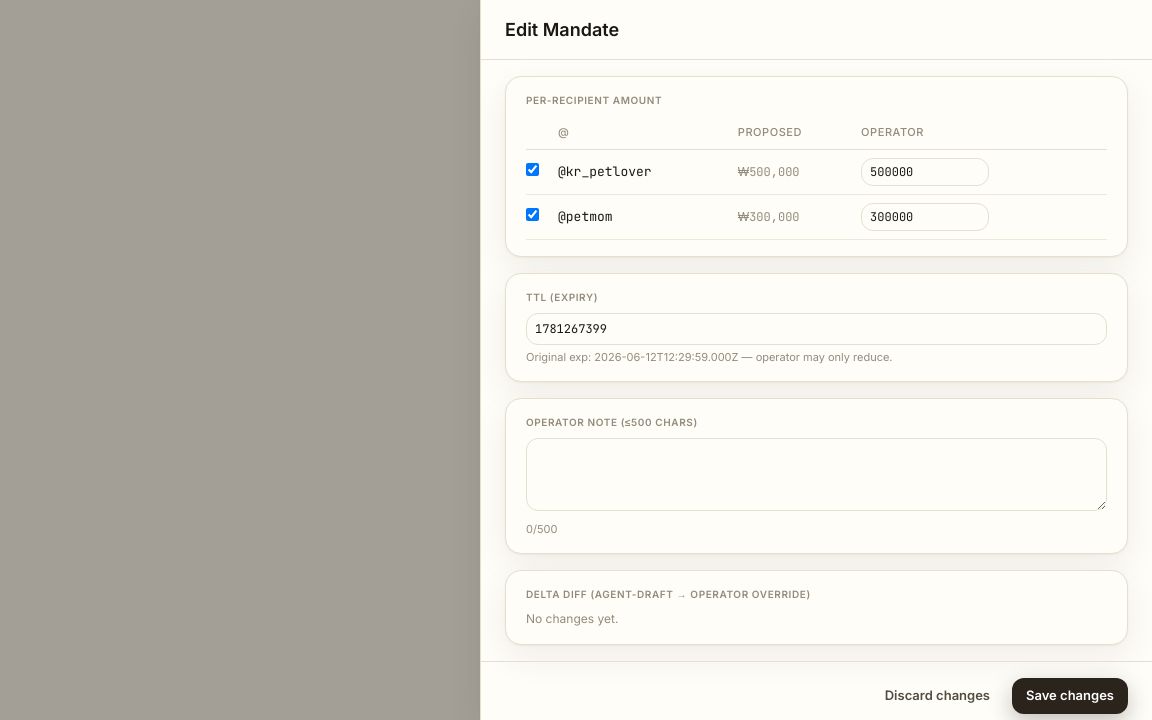
it: EditThenSignDrawer (D27/D33) › requires uplift_acknowledged when an edit exceeds 1.2× proposed
The image size is (1152, 720).
Step 1. Replace the text in the field named "amount for kr_petlover" with "700000" → coordinates (925, 172), box [861,158,989,186]
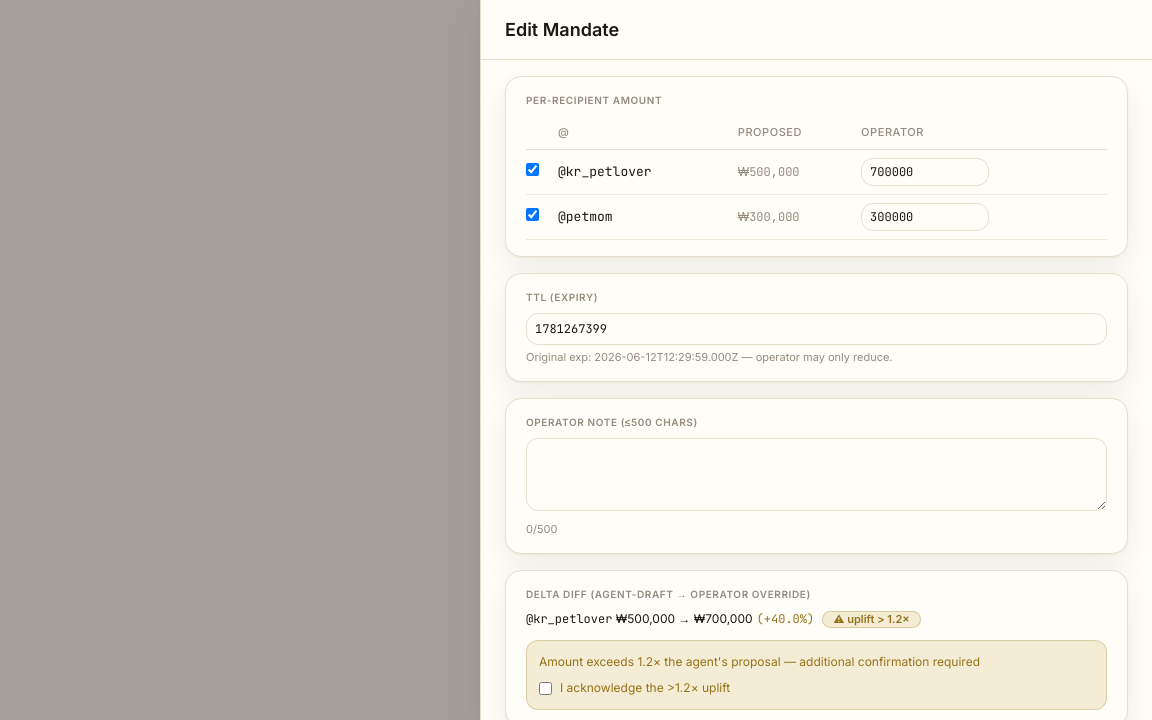
Note: Acknowledge the uplift.
Step 2. Click the checkbox labelled "I acknowledge the >1.2× uplift" → coordinates (546, 688), box [539,682,552,694]
(page scrolled)
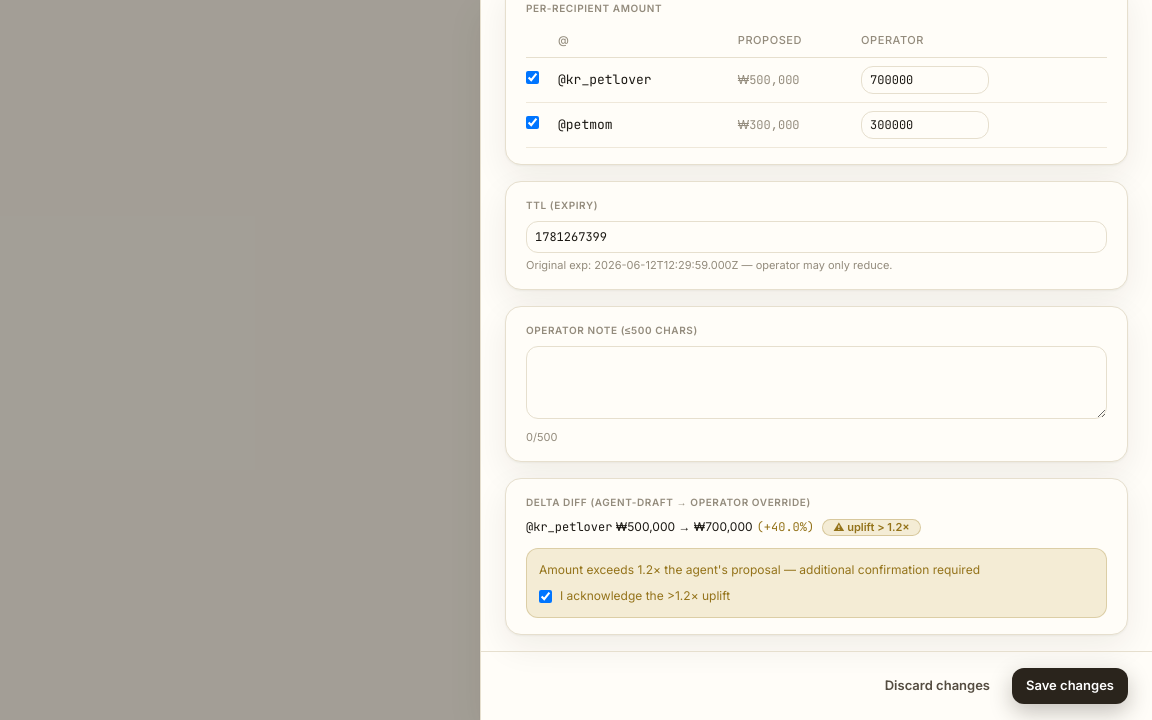
Expected: the button "Save changes" is enabled, [1012,668,1128,704]
